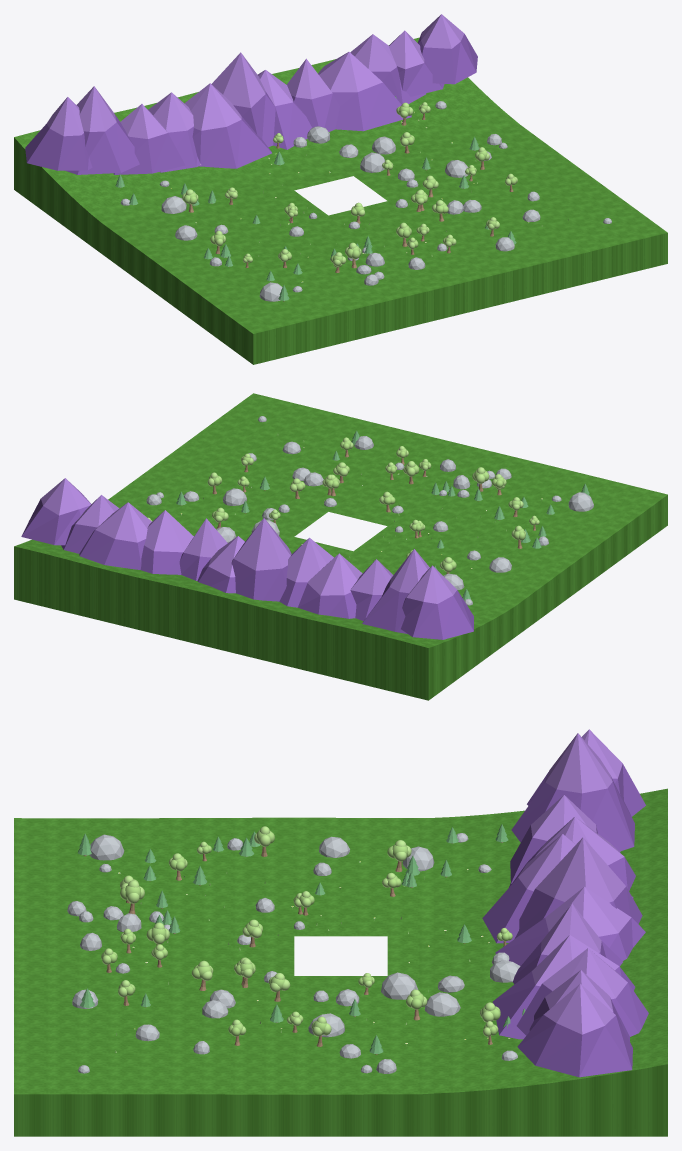
Rendered from map_surroundings.glb.
3 renders of one model, top to bottom at view 1: azimuth 30°, elevation 25°; view 2: azimuth 150°, elevation 25°; view 3: azimuth 270°, elevation 25°, orthographic. The views are drawn at different scales.
Parts seen in each view (by area): view 1: Terrain_Plains_Mesh, Mountain_Mesh_North; view 2: Terrain_Plains_Mesh, Mountain_Mesh_North; view 3: Terrain_Plains_Mesh, Mountain_Mesh_North, Rock_Mesh_024, Rock_Mesh_041, Rock_Mesh_013.
Boxes of the visible parts, x1=… form: Terrain_Plains_Mesh: x1=14, y1=37, x2=667, y2=364; Mountain_Mesh_North: x1=25, y1=14, x2=477, y2=174; Terrain_Plains_Mesh: x1=14, y1=393, x2=667, y2=700; Mountain_Mesh_North: x1=21, y1=478, x2=473, y2=639; Terrain_Plains_Mesh: x1=14, y1=788, x2=667, y2=1136; Mountain_Mesh_North: x1=482, y1=729, x2=648, y2=1077; Rock_Mesh_024: x1=381, y1=972, x2=418, y2=999; Rock_Mesh_041: x1=89, y1=834, x2=124, y2=860; Rock_Mesh_013: x1=424, y1=992, x2=460, y2=1016.
Bounding box in the file's own units: 90.71 × 22.54 × 84.
Materials: 11 (1 with a texture image).
